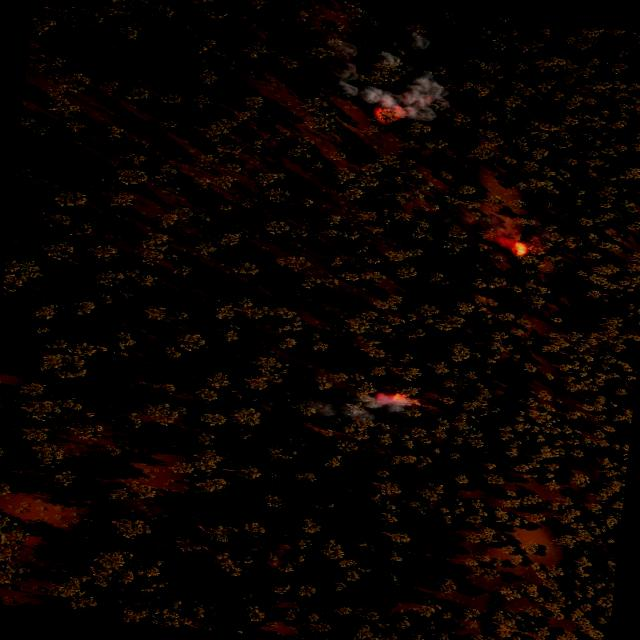fire: (371, 104, 405, 127), (372, 390, 407, 407), (510, 240, 526, 254)
smoke: (338, 27, 458, 127), (323, 388, 415, 426), (404, 33, 431, 51)
